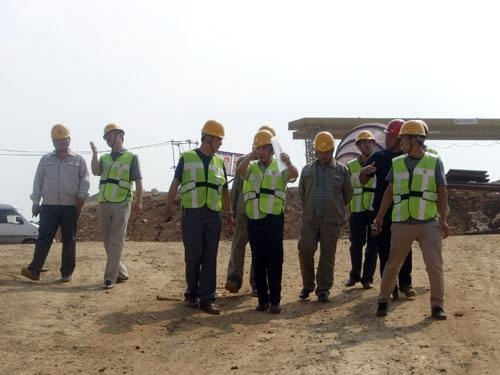red: (383, 117, 404, 146)
yellow: (397, 119, 427, 154), (199, 117, 226, 152), (312, 131, 337, 164), (249, 130, 275, 161), (101, 121, 125, 151), (50, 122, 72, 152), (353, 129, 376, 155)
